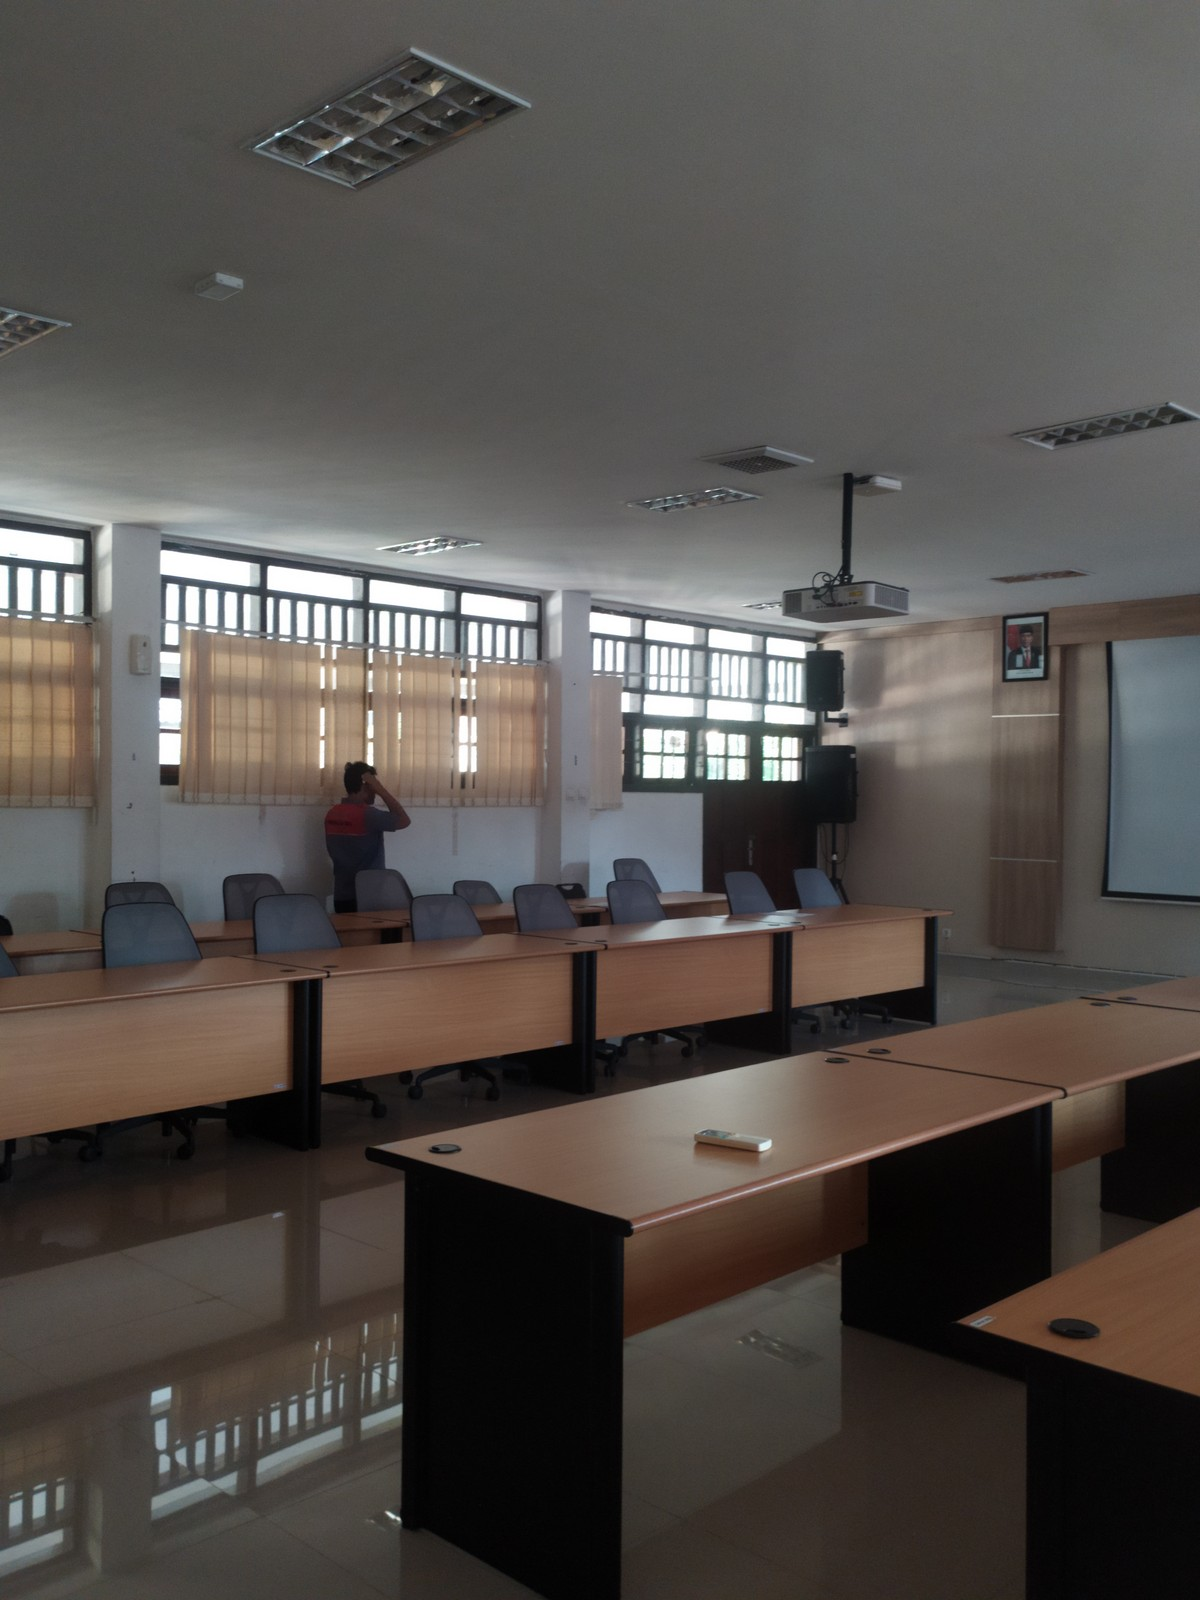concrete column: (86, 519, 170, 901), (536, 581, 599, 888)
